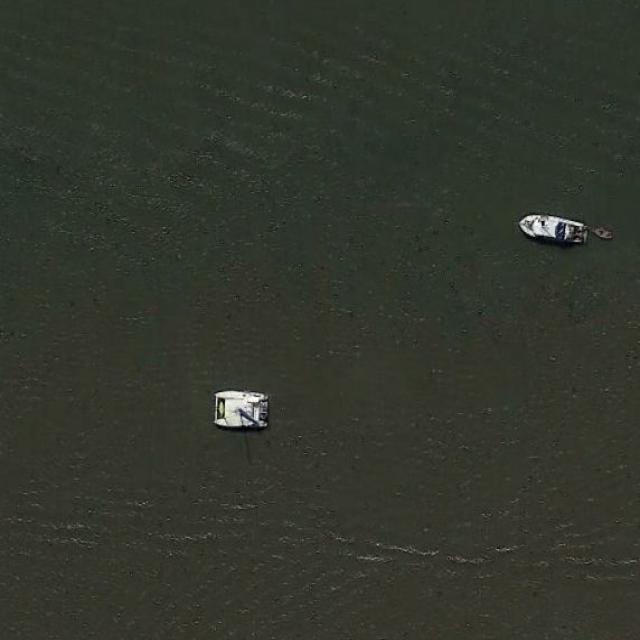ship: (518, 212, 590, 248), (211, 387, 272, 429)
